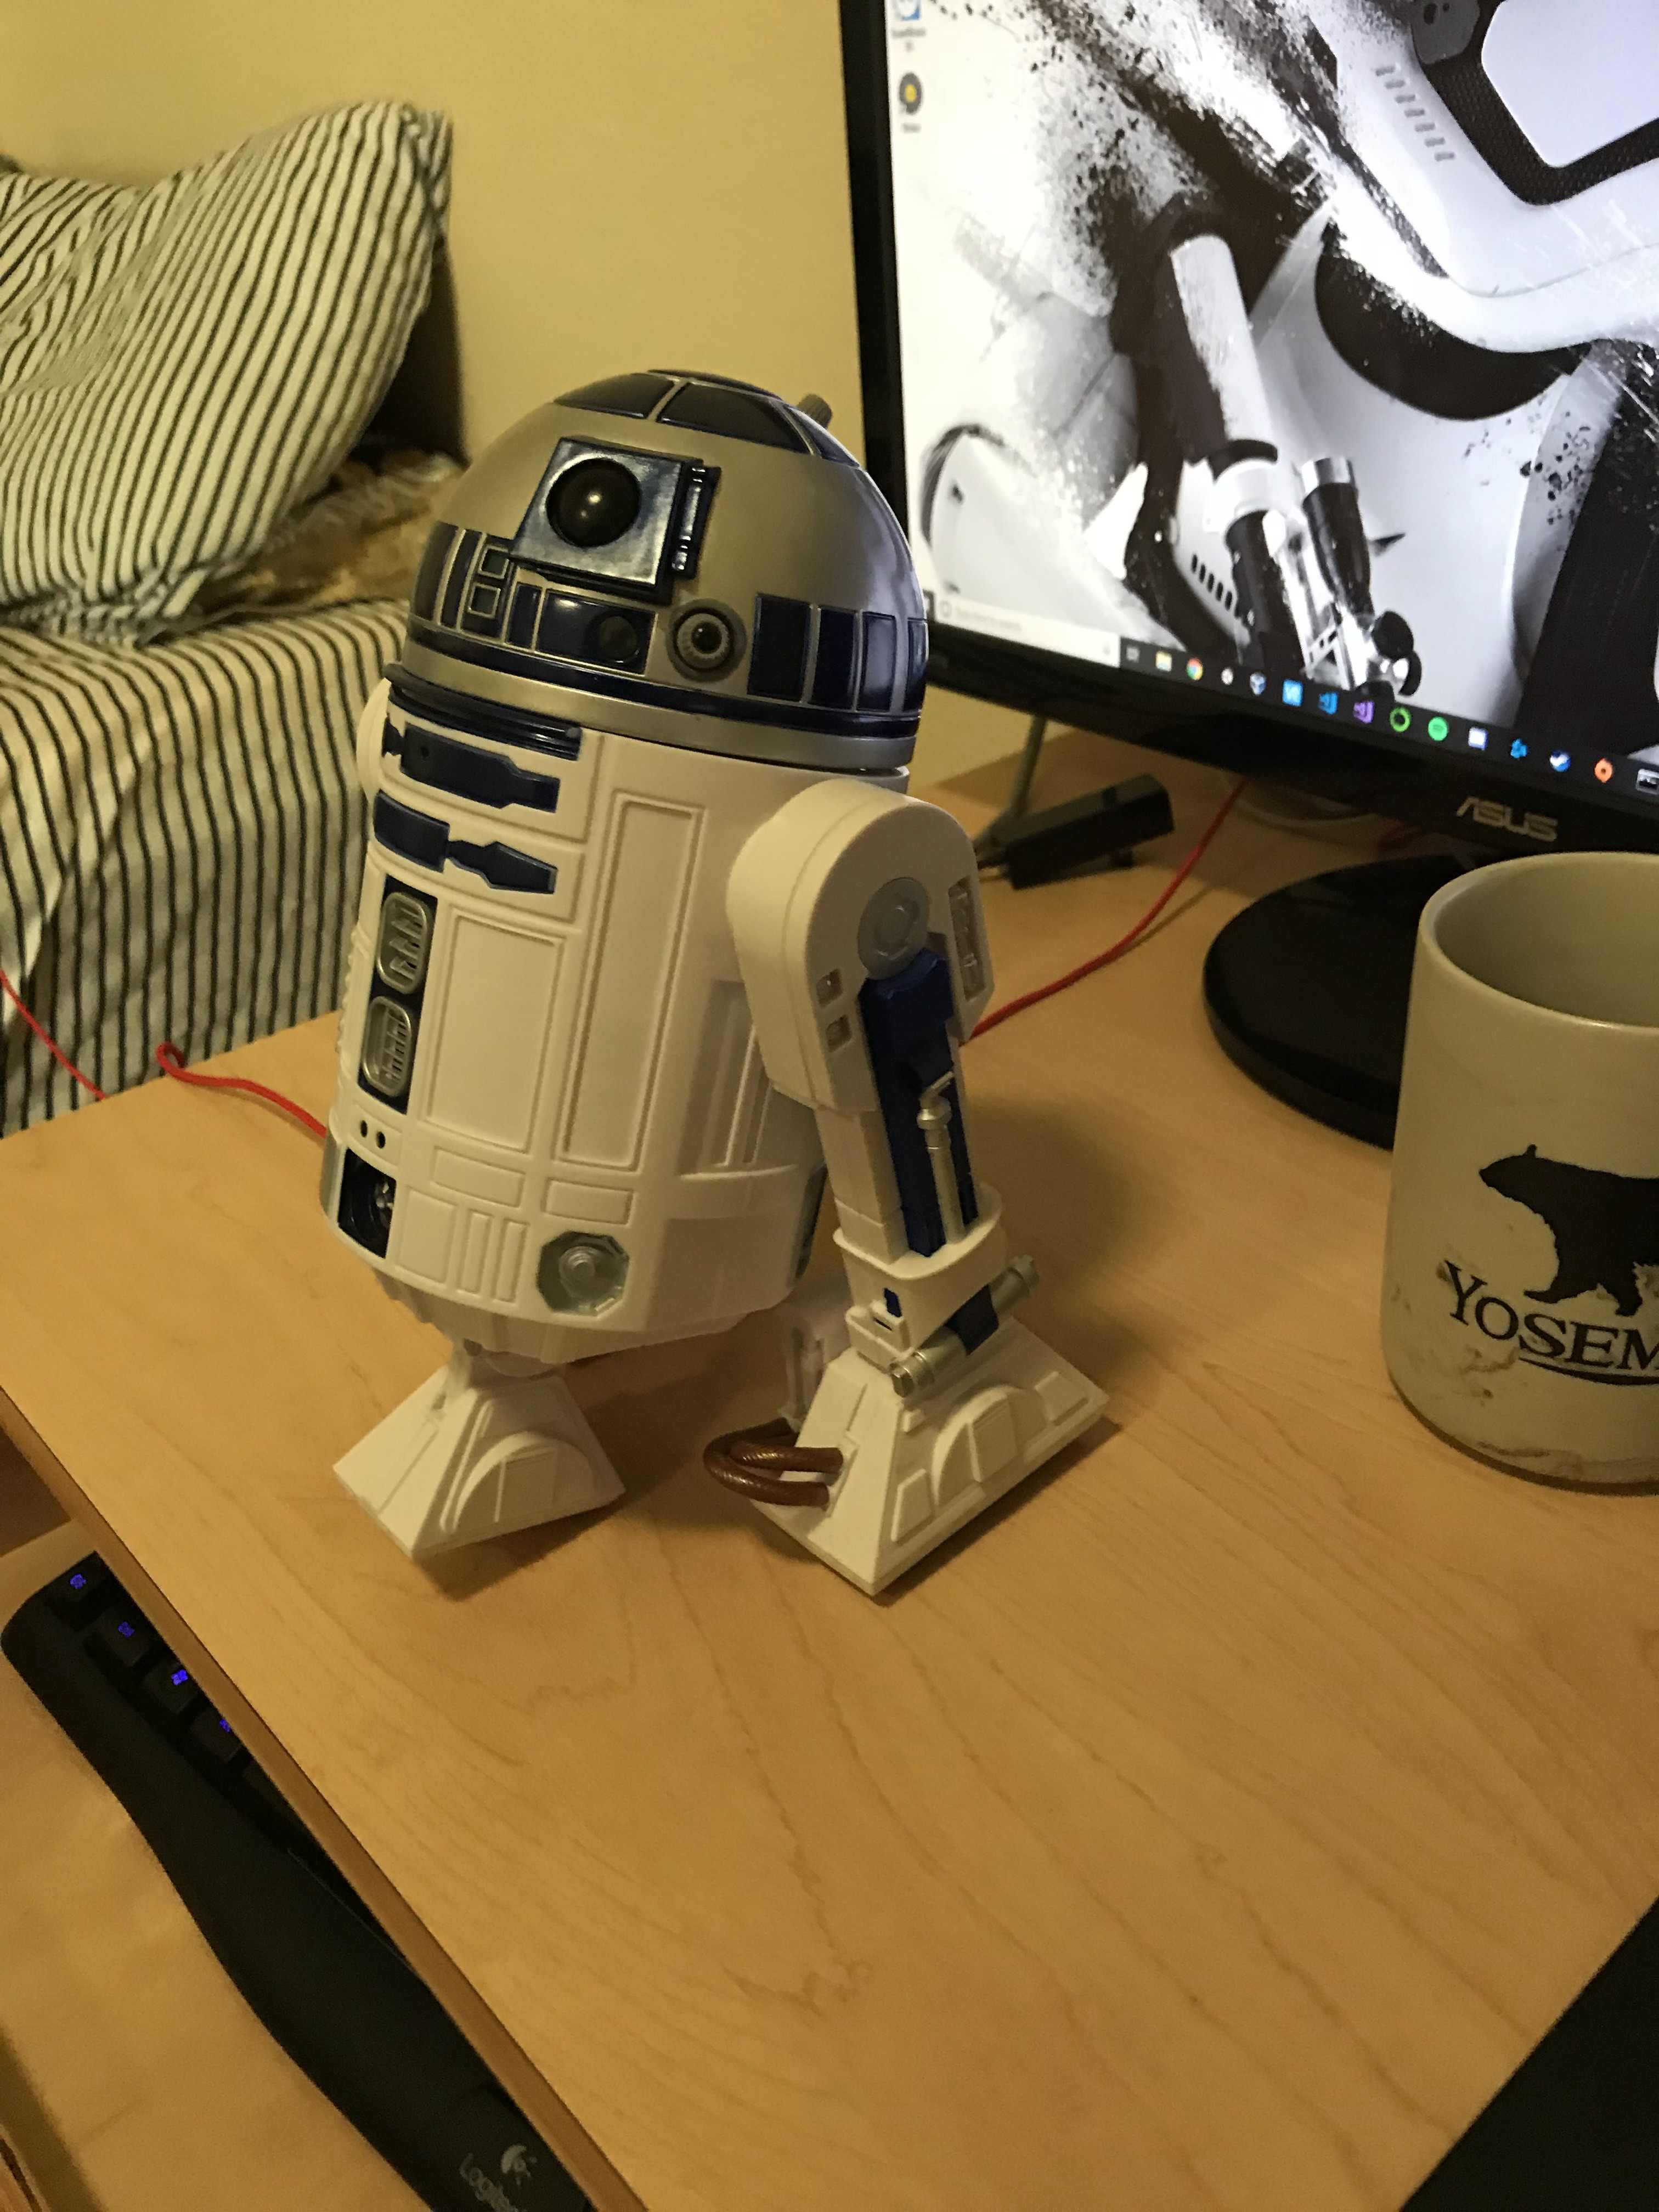r2d2: (322, 366, 1114, 1595)
